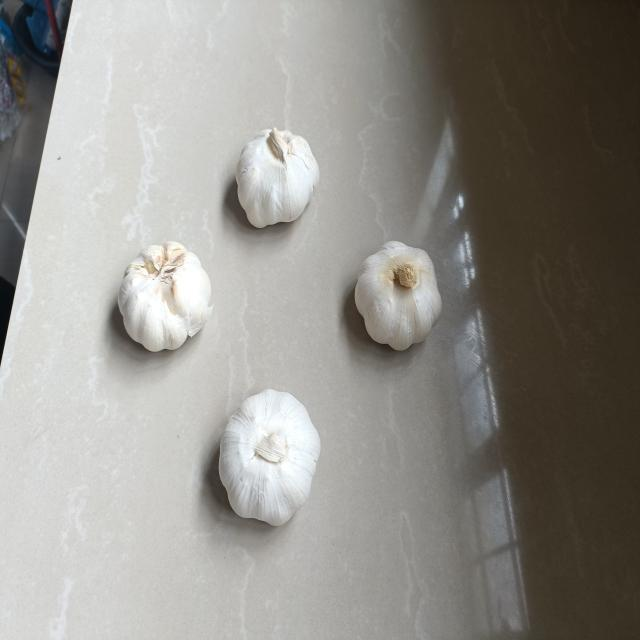garlic: (216, 382, 323, 529), (113, 233, 216, 358), (351, 236, 445, 354), (232, 124, 323, 229)
